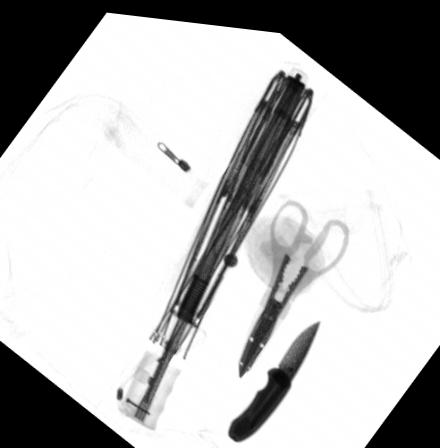Knife: (227, 311, 322, 436)
Scissors: (238, 191, 349, 370)
